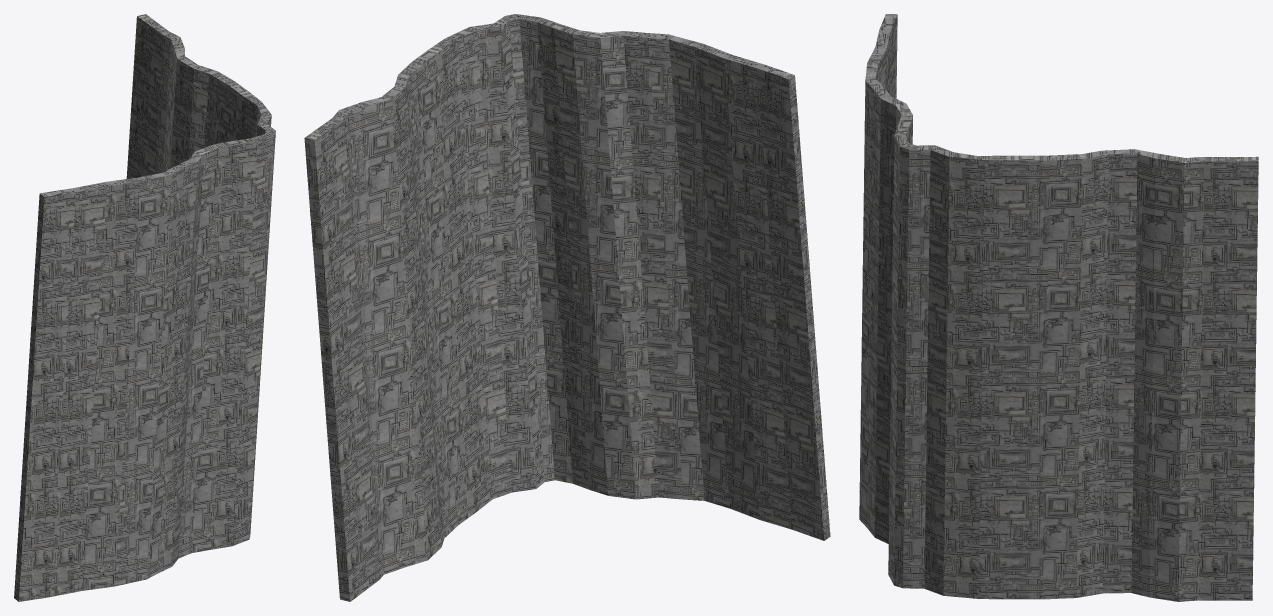
Rendered from Area2_StickyLedge.fbx.
3 views of the same model, side by side, from view 1: azimuth 30°, elevation 25°; view 2: azimuth 150°, elevation 25°; view 3: azimuth 270°, elevation 25° (orthographic). The views are drawn at different scales.
Visible parts, largest first — view 1: Area2_StickyLedge; view 2: Area2_StickyLedge; view 3: Area2_StickyLedge.
Part boxes in pixels (box(x1,y1,x2,y2)): Area2_StickyLedge: box(14, 14, 275, 601); Area2_StickyLedge: box(304, 14, 830, 601); Area2_StickyLedge: box(859, 14, 1258, 601).
Size of the model in its own units: 1645 by 2115 by 1683.
Materials: 1 (1 with a texture image).
